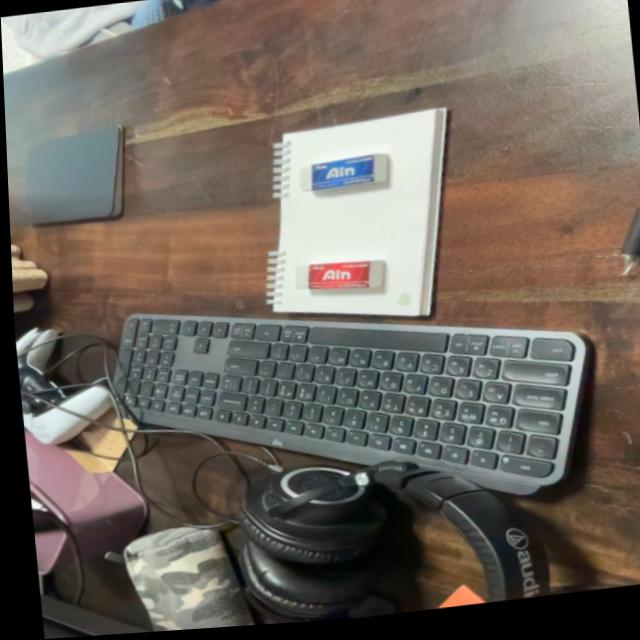blue: (292, 153, 395, 200)
red: (288, 257, 388, 301)
